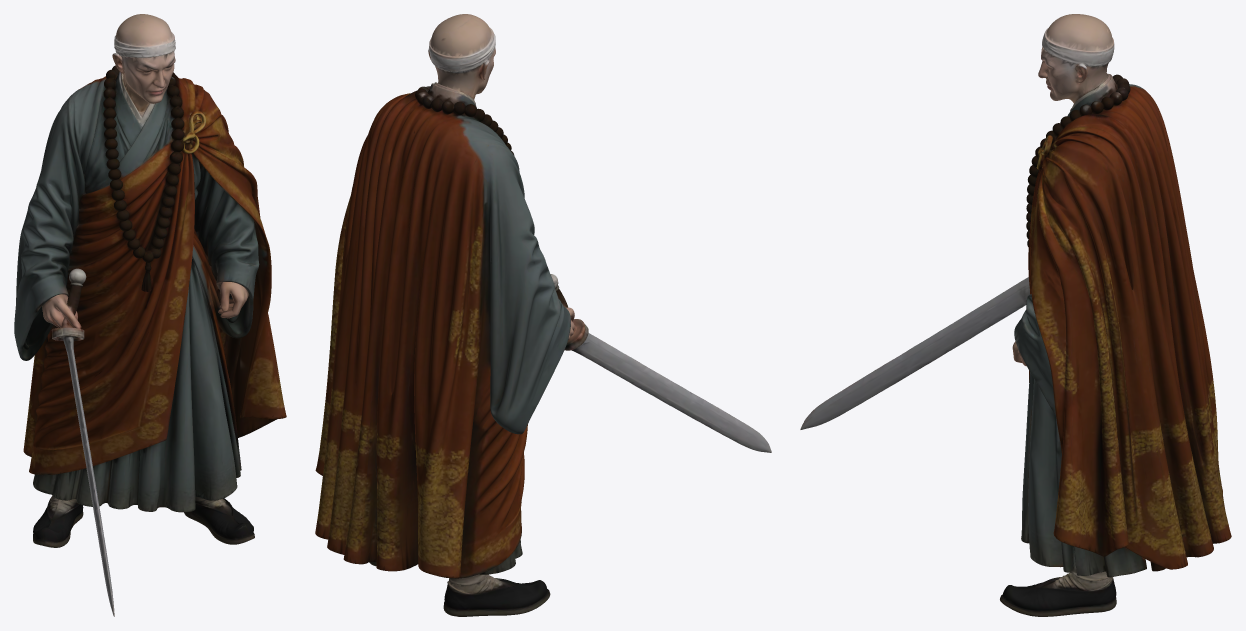
File: mjs_web.glb
3 renders of one model, left to right at view 1: azimuth 30°, elevation 25°; view 2: azimuth 150°, elevation 25°; view 3: azimuth 270°, elevation 25°, orthographic. The views are drawn at different scales.
Visible parts, largest first — view 1: node_0; view 2: node_0; view 3: node_0.
Boxes of the visible parts, x1,y1,x2,y2 form: node_0: [14, 14, 286, 616]; node_0: [315, 14, 771, 616]; node_0: [800, 14, 1231, 616].
Size of the model in its own units: 0.5881 by 0.9901 by 0.6947.
Materials: 1 (1 with a texture image).
